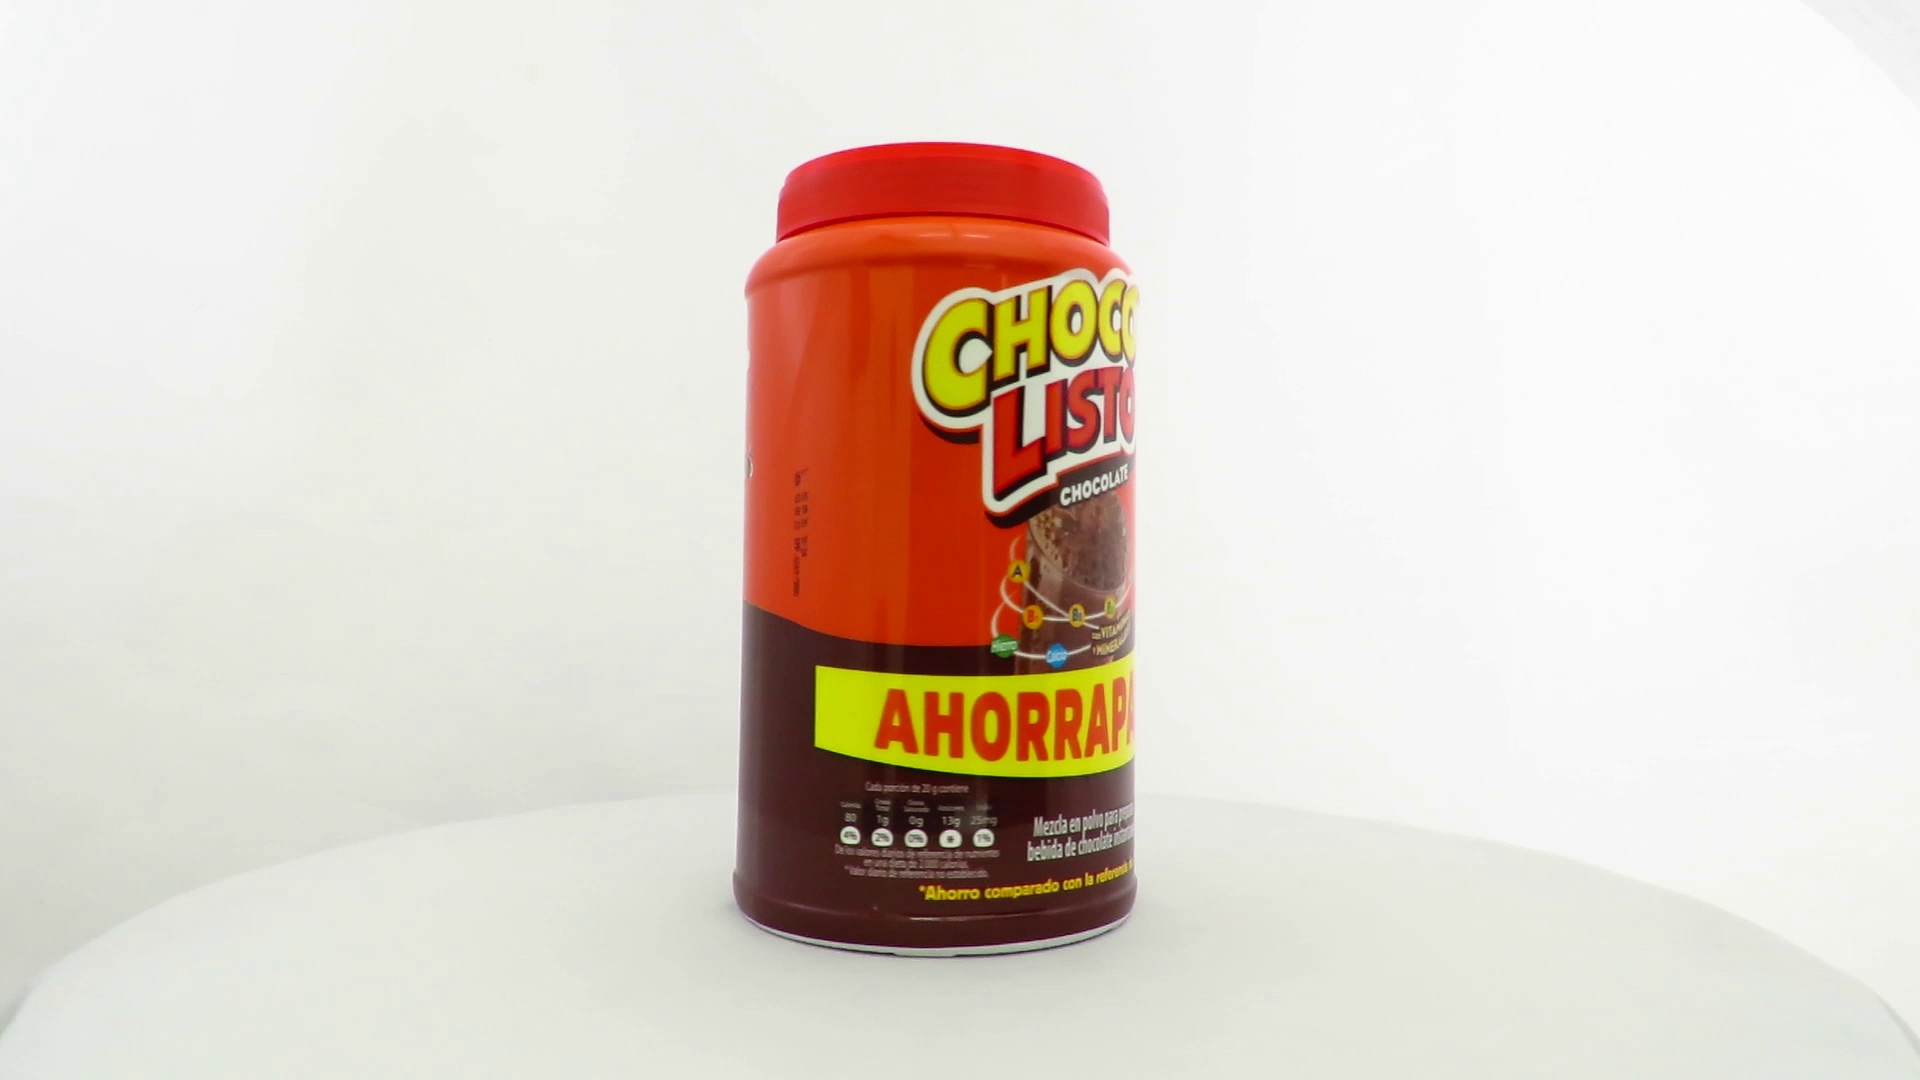COL0170103TRR00100: (727, 136, 1145, 965)
